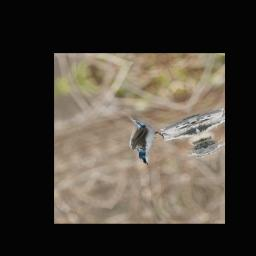Swallow: (113, 102, 174, 169)
